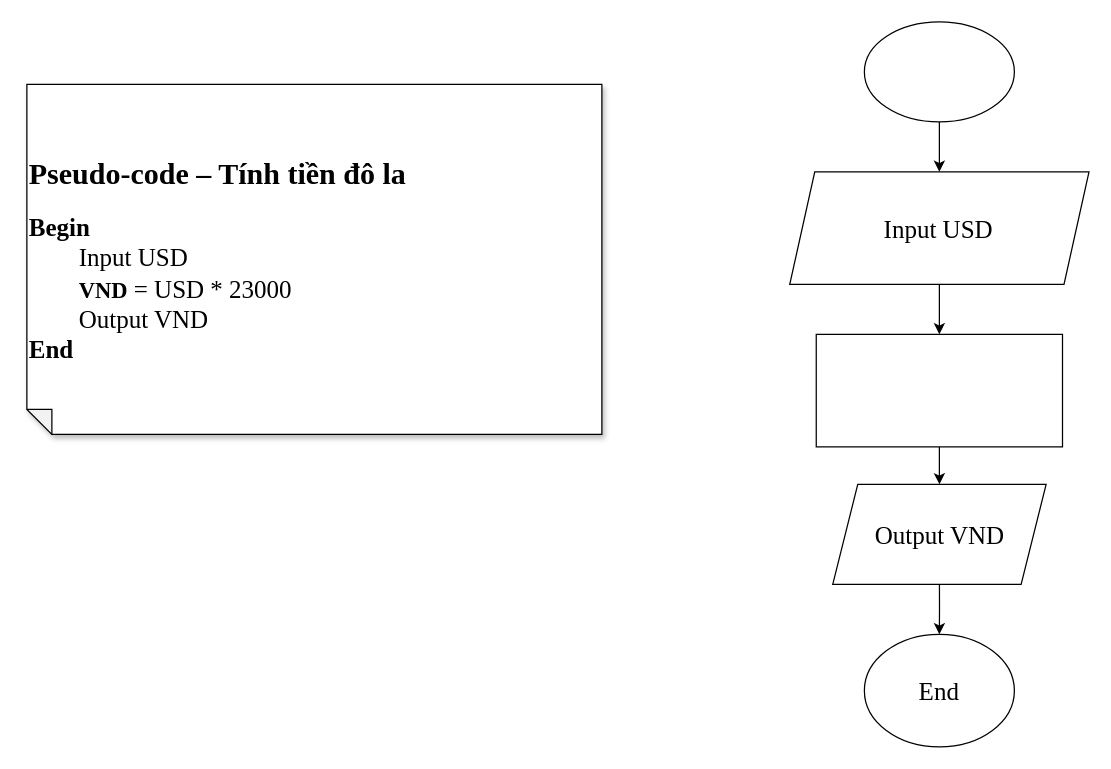
Image size: 1111x769. Some labels were removed from this diagram. Each missing label, with the centre of its shape:
"Begin" goes at (x=938, y=71).
"VND = USD * 23000" goes at (x=938, y=390).
